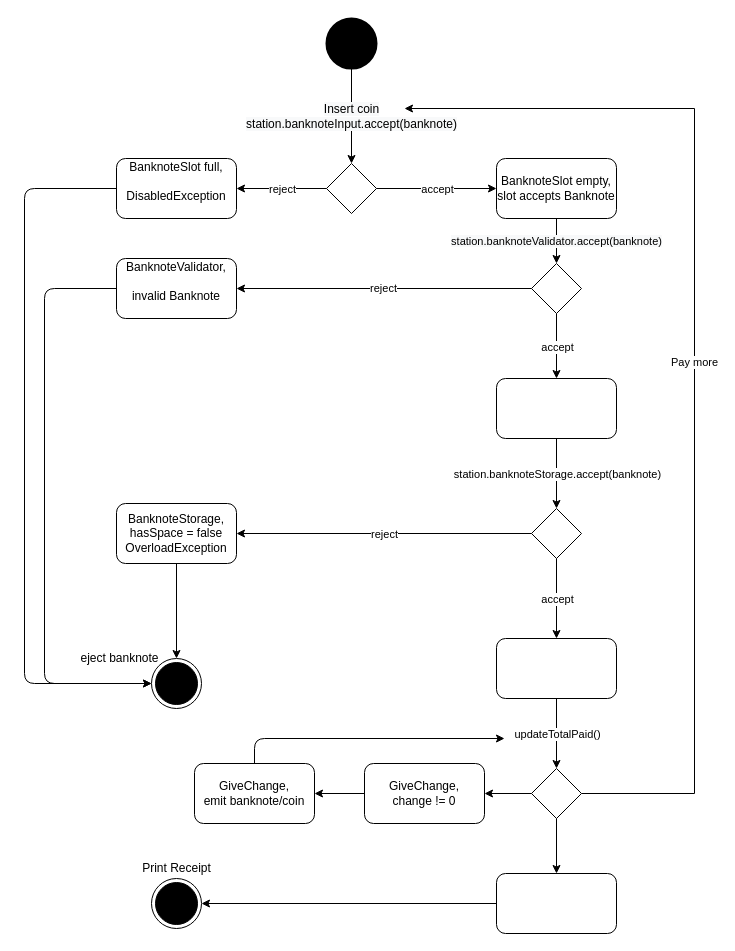
Image size: 735x951. Some labels were removed from this diagram. The box of each missing label's shape, as (x1, y1, x2, y2) in pixels:
BanknoteStorage, hasSpace = true accept banknote: (496, 638, 616, 698)
BanknoteValidator, accept Banknote: (496, 378, 616, 438)
GiveChange, change = 0: (496, 872, 616, 934)
